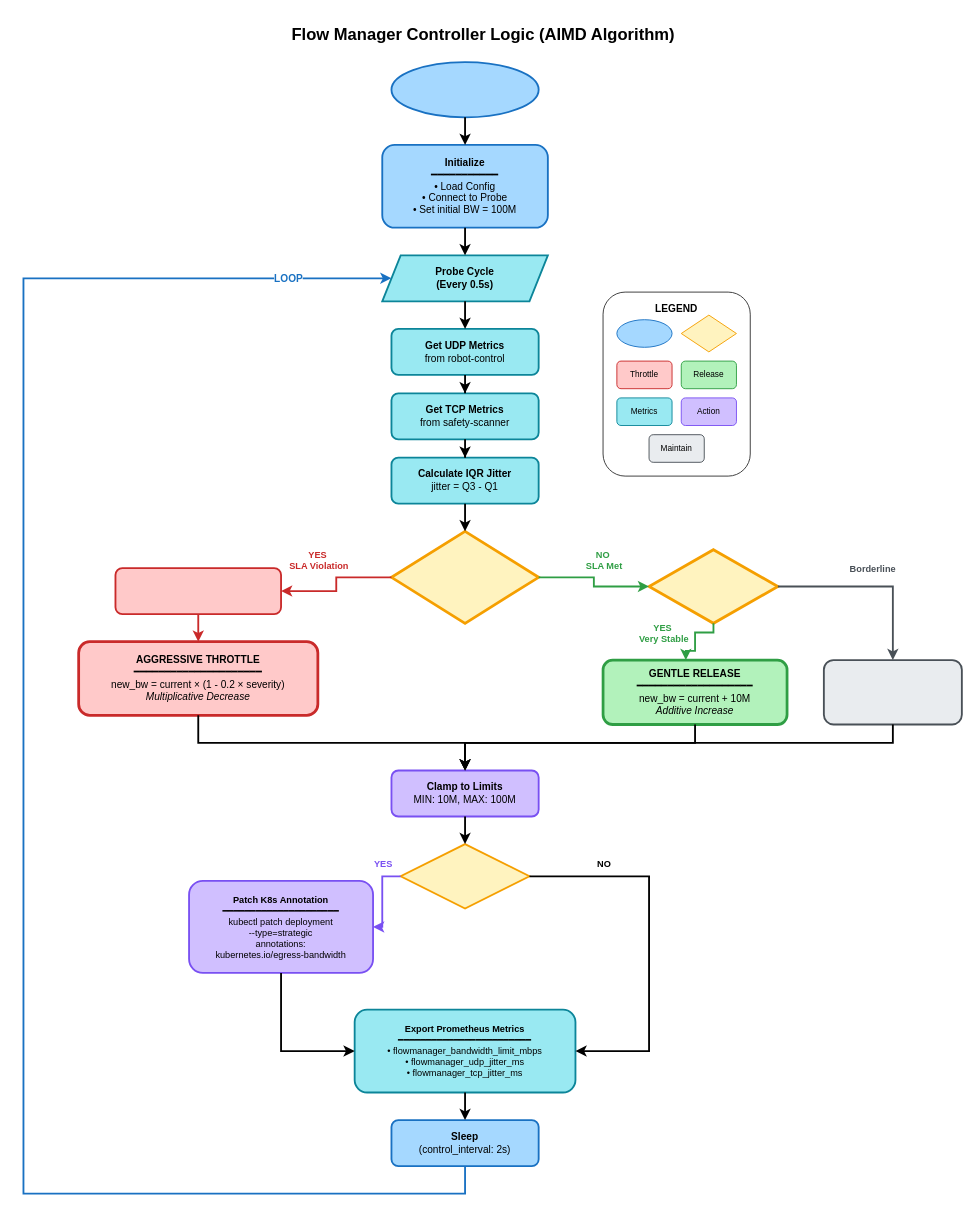
Some shapes in this 978 by 1217 pixel diagram are drawn without their labels. Each missing label, with the box of its shape:
BW Changed?: (399, 843, 530, 909)
Calculate Severity ratio = jitter / threshold: (114, 567, 282, 615)
Decision: (680, 314, 736, 352)
Jitter < 50% Threshold?: (647, 548, 779, 624)
Jitter > Threshold? (0.3ms): (390, 529, 540, 624)
MAINTAIN ━━━━━━━━━━━━━━ new_bw = current Hold Steady: (822, 659, 962, 725)
Start Control Loop: (390, 61, 539, 118)
Start/End: (616, 319, 672, 347)
